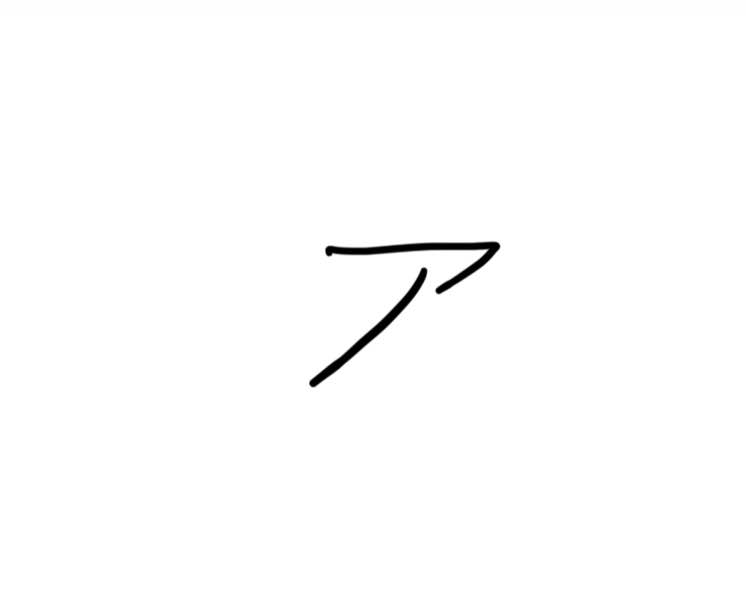a: (296, 226, 512, 402)
